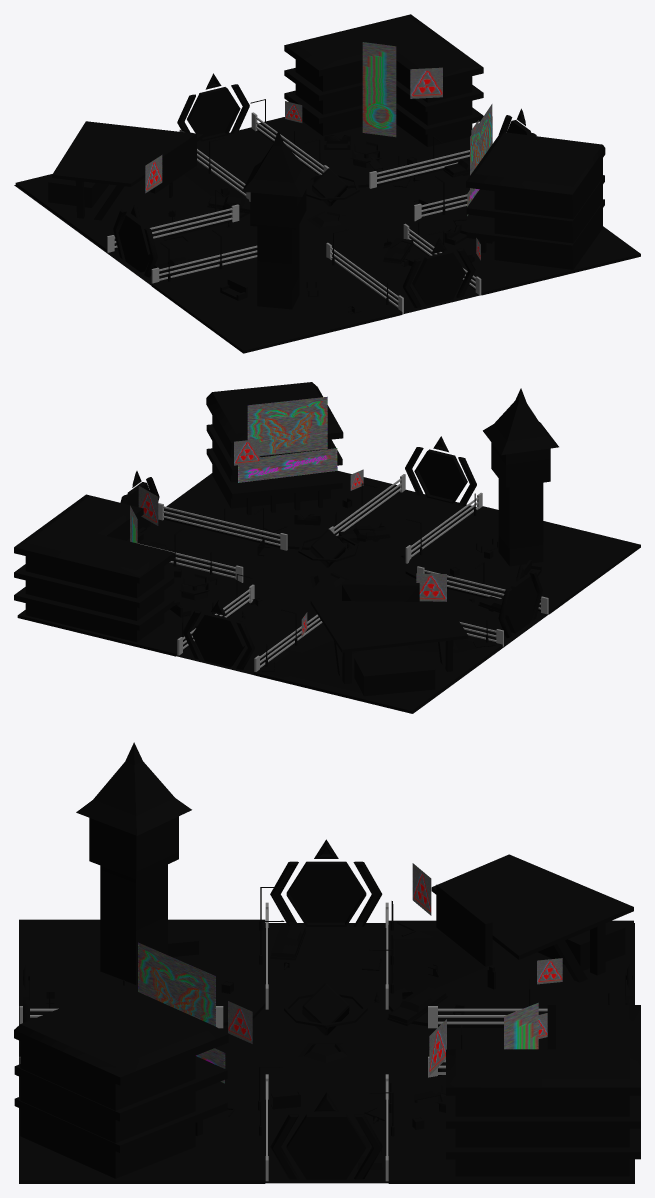
The model's file is FULL SCENE COMBINED.obj.
3 views of the same model, one above another, from view 1: azimuth 30°, elevation 25°; view 2: azimuth 150°, elevation 25°; view 3: azimuth 270°, elevation 25° (orthographic). The views are drawn at different scales.
Parts seen in each view (by area): view 1: polySurface58, pPlane8, pCube1, pCube12, pCube16, pCube14, pPlane17, polySurface78, polySurface77, polySurface3, Core:pCube19, pCube13 (+16 smaller); view 2: polySurface58, pPlane8, pCube12, pCube14, pCube1, pCube16, pPlane16, pCube13, polySurface77, polySurface78, pPlane18, polySurface3 (+14 smaller); view 3: polySurface58, pCube1, pCube12, pPlane8, pCube16, pCube14, Portal:polySurface3, polySurface3, pPlane16, Core:pCube19, pCube13, pPlane17 (+7 smaller).
Boxes of the visible parts, x1,y1,x2,y2 form: polySurface58: [15, 117, 640, 353]; pPlane8: [14, 127, 481, 314]; pCube1: [466, 132, 605, 269]; pCube12: [284, 14, 483, 146]; pCube16: [242, 130, 314, 309]; pCube14: [52, 121, 203, 220]; pPlane17: [362, 42, 396, 137]; polySurface78: [403, 238, 475, 307]; polySurface77: [177, 73, 249, 141]; polySurface3: [113, 203, 157, 277]; Core:pCube19: [306, 168, 359, 228]; pCube13: [48, 178, 108, 207]; polySurface58: [17, 471, 640, 713]; pPlane8: [140, 489, 549, 713]; pCube12: [14, 494, 174, 642]; pCube14: [310, 582, 468, 684]; pCube1: [206, 382, 343, 515]; pCube16: [483, 388, 558, 566]; pPlane16: [247, 396, 327, 455]; pCube13: [354, 651, 435, 696]; polySurface77: [183, 600, 254, 669]; polySurface78: [405, 436, 476, 506]; pPlane18: [238, 448, 337, 482]; polySurface3: [498, 564, 542, 638]; polySurface58: [19, 919, 634, 1183]; pCube1: [14, 984, 228, 1178]; pCube12: [446, 1005, 640, 1176]; pPlane8: [19, 923, 634, 1183]; pCube16: [76, 742, 191, 984]; pCube14: [431, 854, 633, 982]; Portal:polySurface3: [270, 1092, 382, 1179]; polySurface3: [270, 839, 382, 926]; pPlane16: [138, 942, 215, 1026]; Core:pCube19: [284, 983, 367, 1065]; pCube13: [538, 921, 625, 970]; pPlane17: [504, 1002, 538, 1049].
Size of the model in its own units: 24.65 by 10.03 by 24.41.
